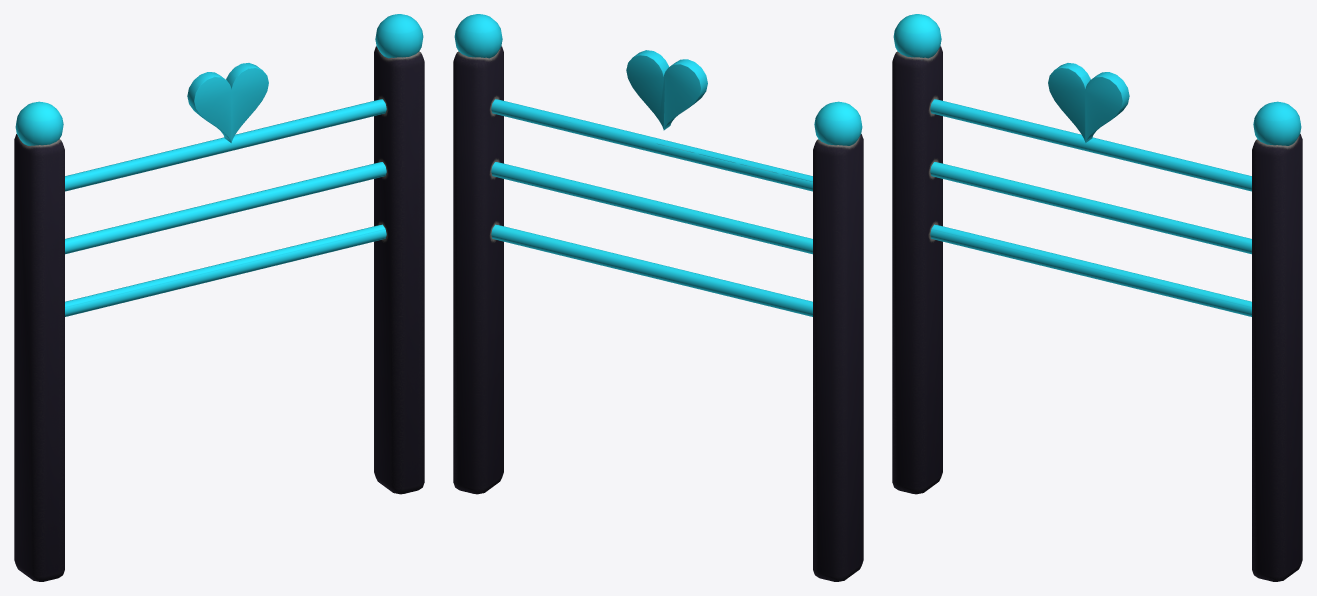
Rendered from rn_obstacle_laser_high.fbx.
3 renders of one model, left to right at view 1: azimuth 30°, elevation 25°; view 2: azimuth 150°, elevation 25°; view 3: azimuth 330°, elevation 25°, orthographic.
Visible parts, largest first — view 1: rn_obstacle_laser_high; view 2: rn_obstacle_laser_high; view 3: rn_obstacle_laser_high.
Boxes of the visible parts, left/top/right/bottom form: rn_obstacle_laser_high: left=14, top=14, right=424, bottom=581; rn_obstacle_laser_high: left=453, top=14, right=863, bottom=581; rn_obstacle_laser_high: left=892, top=14, right=1302, bottom=581.
Bounding box in the file's own units: 2.68 × 3 × 0.3.
2 materials, 2 textured.
